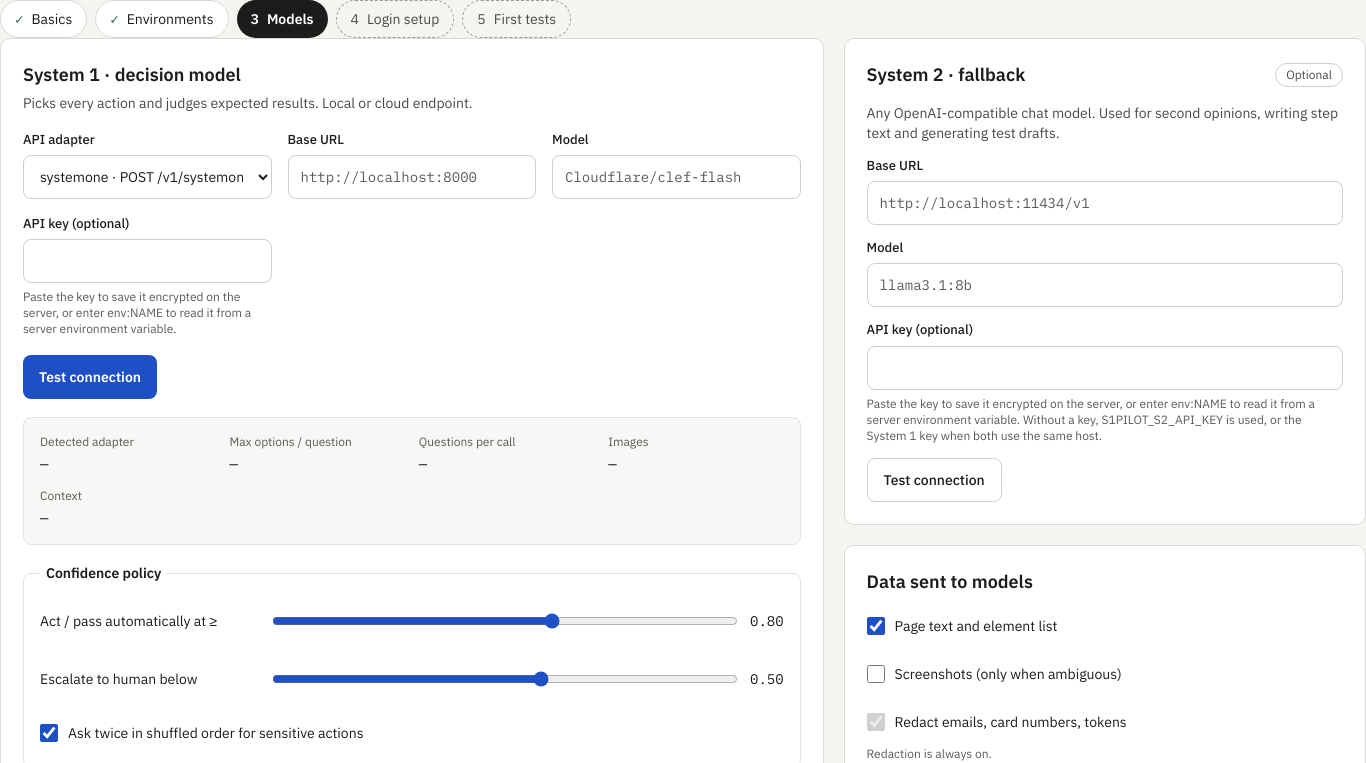
Scenario: Models step › asks for a URL before probing
The image size is (1366, 763).
Click the button "Test connection" below "API adapter" at point(90, 377), box x1=23 y1=355 x2=157 y2=399
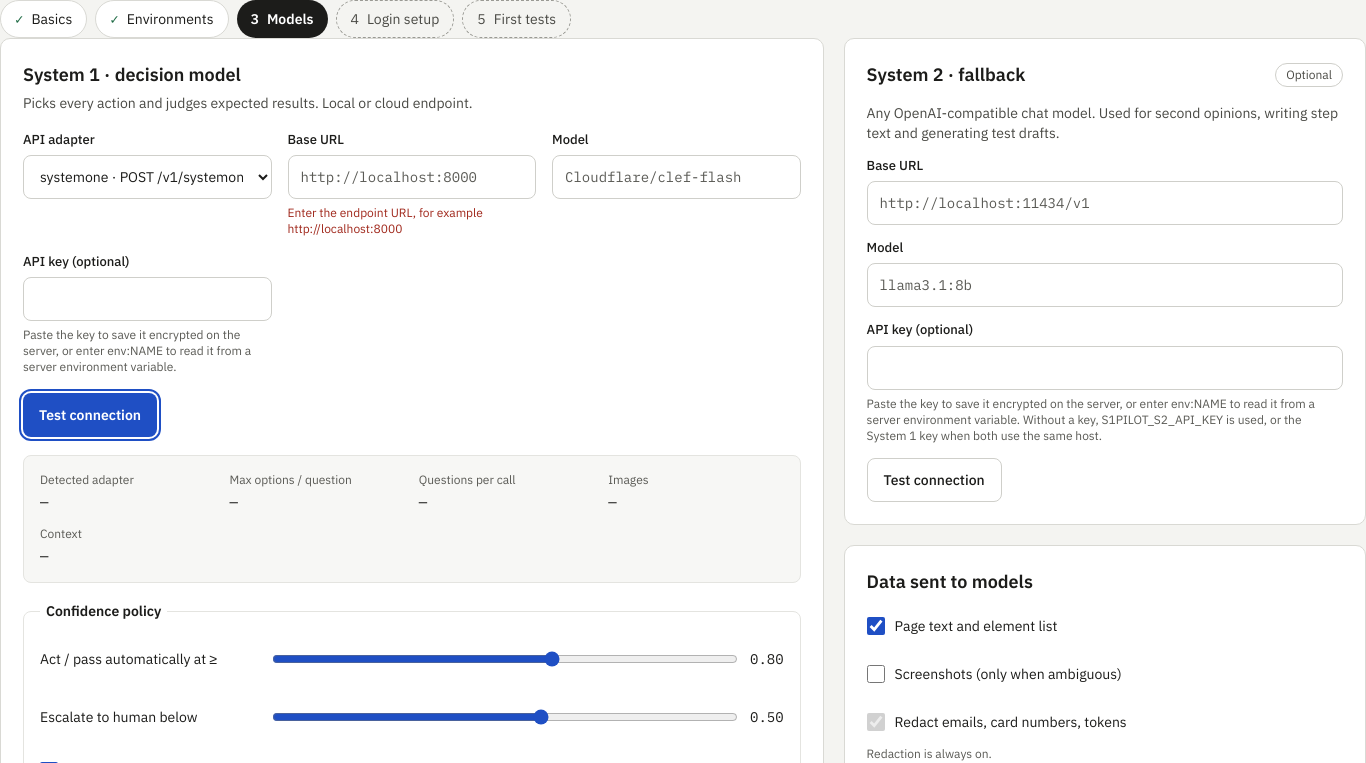
Expected: the text "Enter the endpoint URL, for example http://localhost:8000" is shown, x1=288 y1=205 x2=483 y2=236
